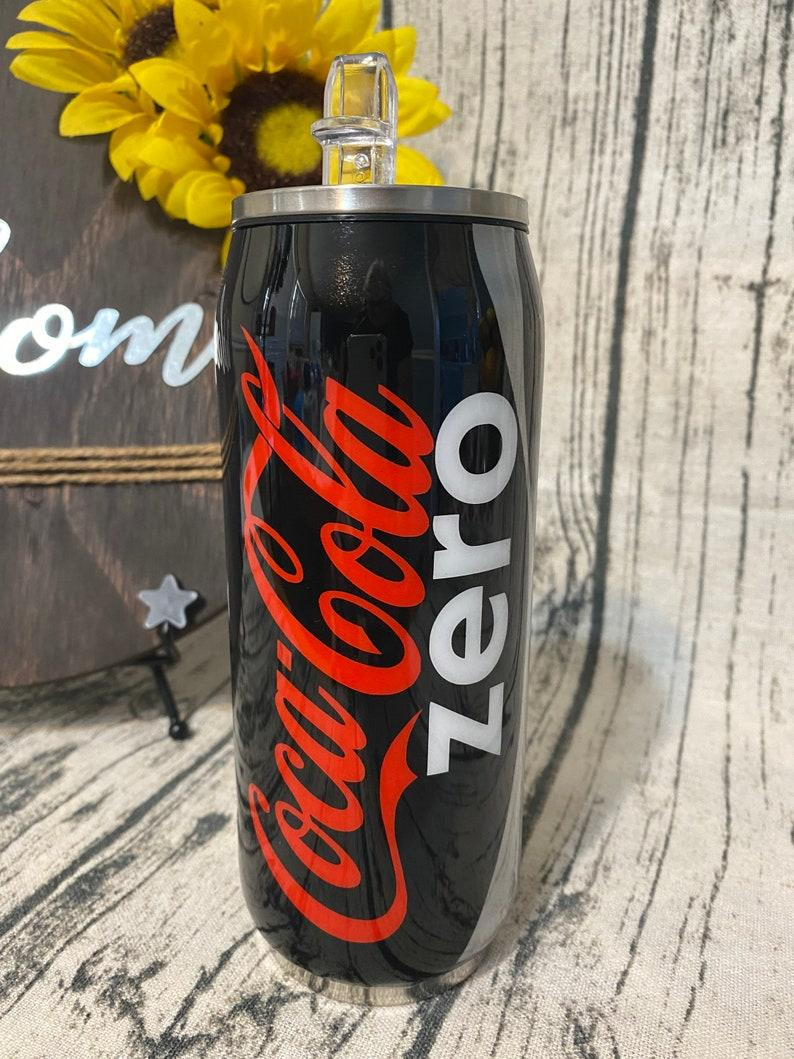can: (210, 144, 559, 1010)
